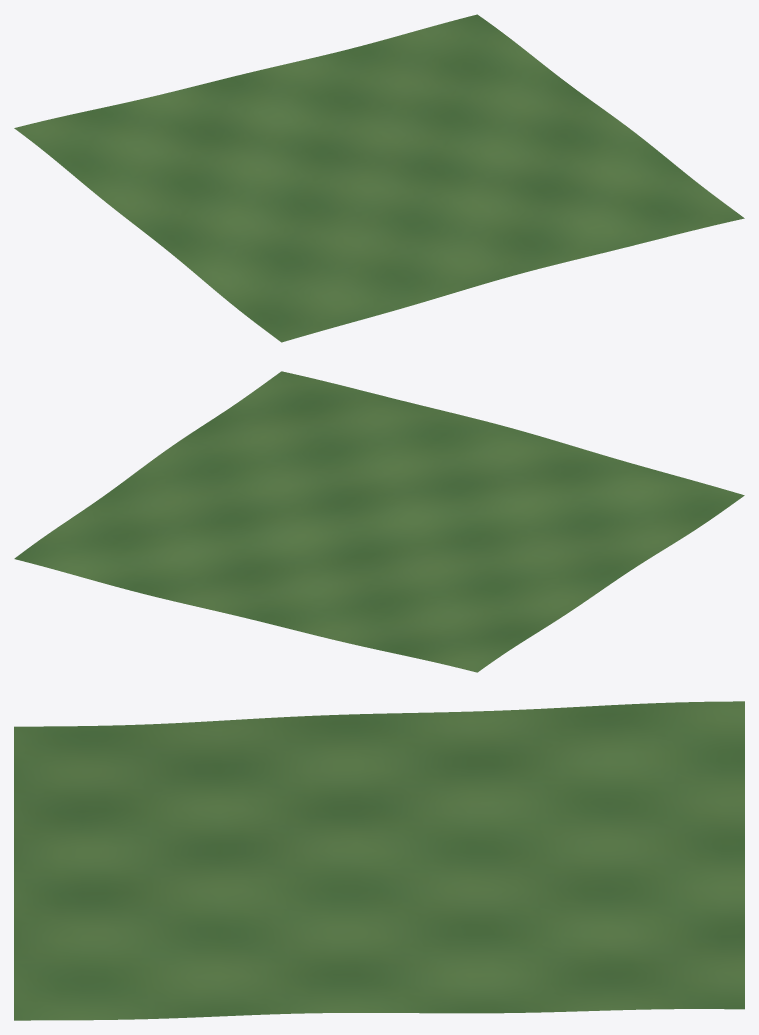
File: chunk_2_3.glb
3 renders of one model, top to bottom at view 1: azimuth 30°, elevation 25°; view 2: azimuth 150°, elevation 25°; view 3: azimuth 270°, elevation 25°, orthographic. The views are drawn at different scales.
Size of the model in its own units: 512 by 20.56 by 512.
